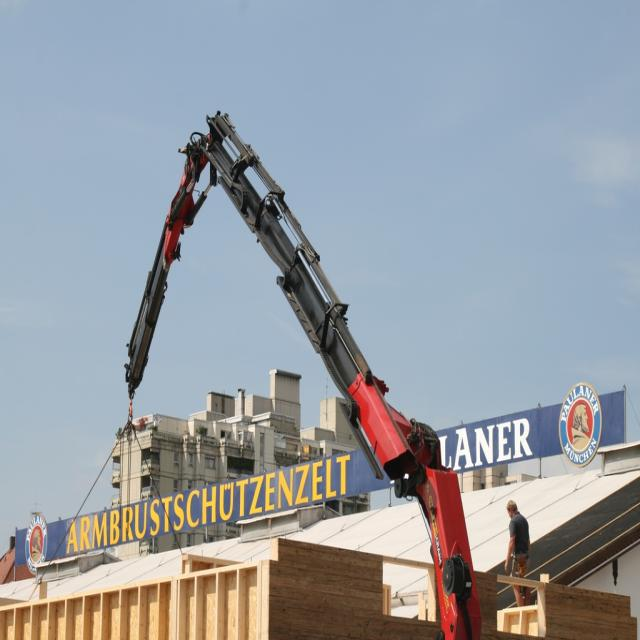paulaner: (559, 383, 602, 466), (25, 518, 48, 575)
